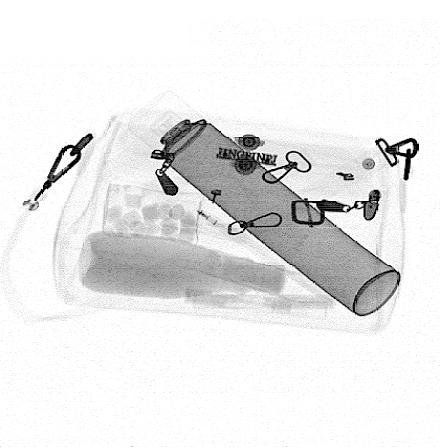Sprayer: (128, 91, 401, 316)
